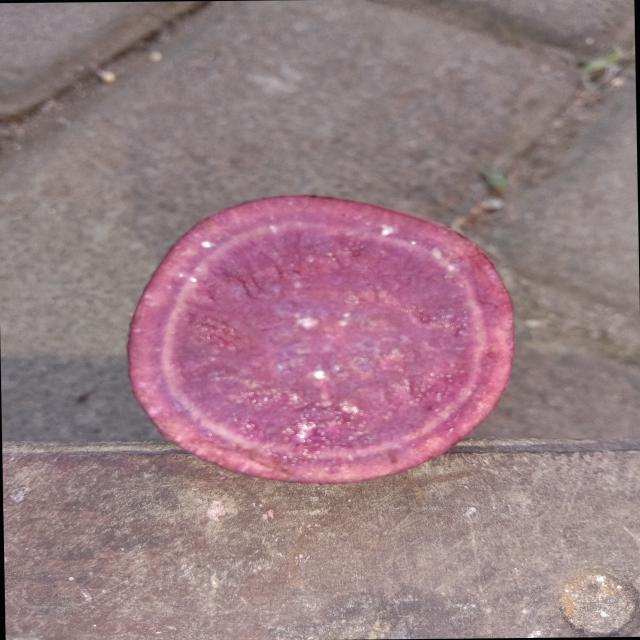Healthy Sweet Potato: (128, 196, 513, 484)
